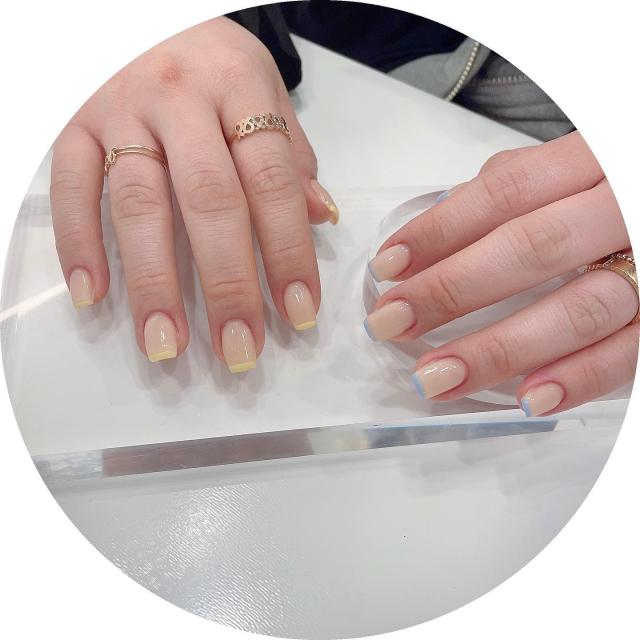Nail: (411, 357, 468, 399), (364, 299, 415, 343), (221, 319, 256, 373), (368, 243, 411, 283), (282, 281, 317, 330), (144, 313, 178, 363), (520, 382, 564, 417), (310, 179, 340, 225), (70, 268, 95, 309)
